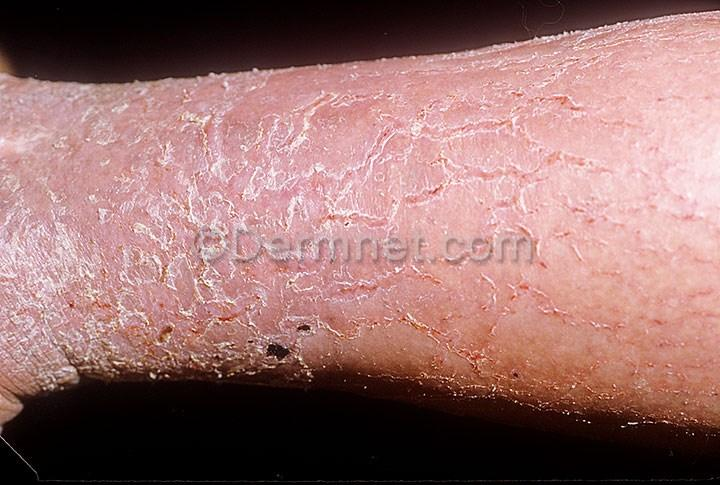Eczema: (199, 268, 558, 382), (14, 87, 310, 219), (324, 70, 574, 219), (9, 226, 187, 378)
